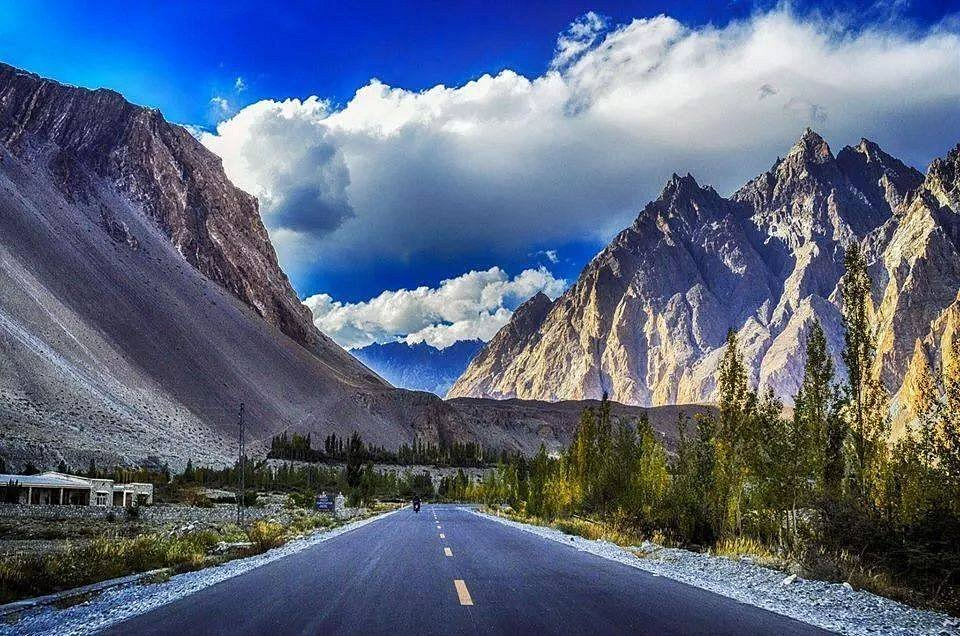straightRoad: (281, 507, 644, 636)
